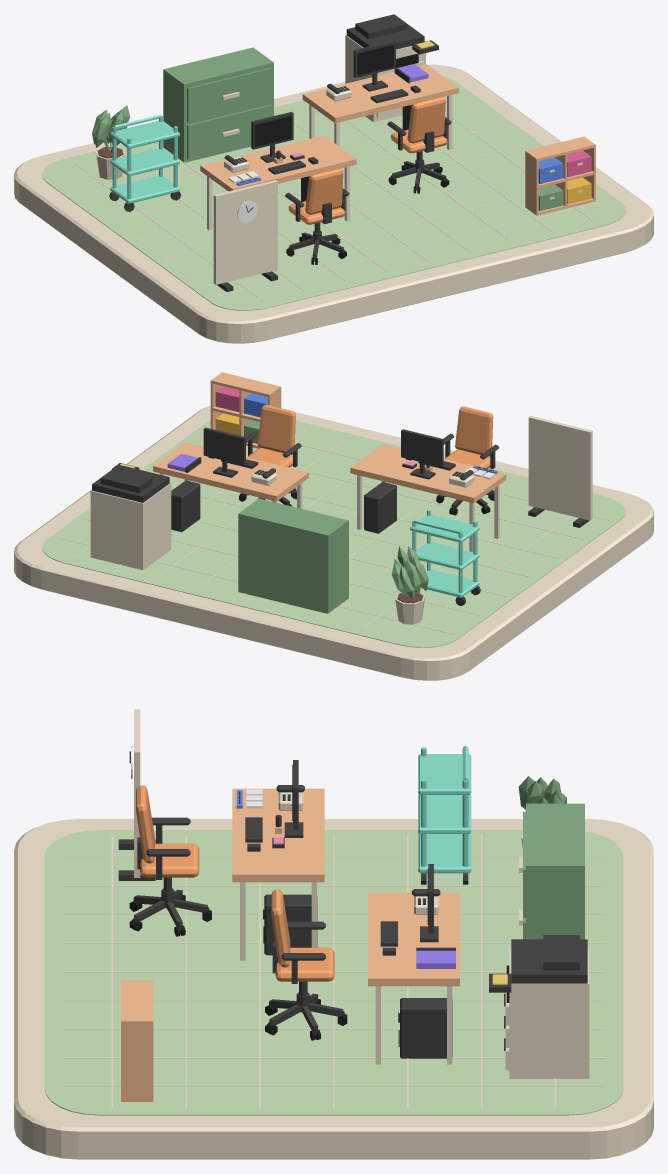
3 views of the same model, one above another, from view 1: azimuth 30°, elevation 25°; view 2: azimuth 150°, elevation 25°; view 3: azimuth 270°, elevation 25° (orthographic). The views are drawn at different scales.
Visible parts, largest first — view 1: COM-02 Floor Surface, COM-01 Rounded Base Direct, Cabinet, Panel, Top.001, Top, Body, COM-04_Chair_blender_direct.001, COM-04_Chair_blender_direct, Pot, Frame.001, Frame (+10 smaller); view 2: COM-02 Floor Surface, COM-01 Rounded Base Direct, Cabinet, Body, Panel, Top, Top.001, COM-04_Chair_blender_direct, COM-04_Chair_blender_direct.001, Pot, Frame, Frame.001 (+7 smaller); view 3: COM-02 Floor Surface, COM-01 Rounded Base Direct, Body, Cabinet, Top, Top.001, COM-04_Chair_blender_direct, COM-04_Chair_blender_direct.001, Tower.001, Cubbies divider.002, Tray.002, Tray.001 (+12 smaller).
Boxes of the visible parts, left/top/right/bottom form: COM-02 Floor Surface: left=42, top=76, right=625, bottom=310; COM-01 Rounded Base Direct: left=14, top=64, right=653, bottom=343; Cabinet: left=163, top=47, right=273, bottom=162; Panel: left=213, top=180, right=277, bottom=284; Top.001: left=302, top=64, right=458, bottom=149; Top: left=200, top=135, right=356, bottom=230; Body: left=345, top=14, right=438, bottom=122; COM-04_Chair_blender_direct.001: left=387, top=96, right=451, bottom=193; COM-04_Chair_blender_direct: left=285, top=168, right=349, bottom=264; Pot: left=92, top=105, right=130, bottom=179; Frame.001: left=353, top=40, right=395, bottom=91; Frame: left=251, top=111, right=293, bottom=162; COM-02 Floor Surface: left=42, top=420, right=625, bottom=647; COM-01 Rounded Base Direct: left=14, top=406, right=653, bottom=680; Cabinet: left=238, top=498, right=348, bottom=613; Body: left=90, top=463, right=171, bottom=570; Panel: left=528, top=416, right=592, bottom=520; Top: left=350, top=444, right=506, bottom=551; Top.001: left=153, top=442, right=308, bottom=508; COM-04_Chair_blender_direct: left=436, top=406, right=499, bottom=515; COM-04_Chair_blender_direct.001: left=239, top=404, right=301, bottom=506; Pot: left=391, top=546, right=428, bottom=624; Frame: left=401, top=429, right=443, bottom=479; Frame.001: left=203, top=427, right=245, bottom=477; COM-02 Floor Surface: left=44, top=830, right=623, bottom=1115; COM-01 Rounded Base Direct: left=14, top=819, right=653, bottom=1159; Body: left=489, top=935, right=589, bottom=1078; Cabinet: left=519, top=803, right=584, bottom=939; Top: left=232, top=788, right=324, bottom=960; Top.001: left=368, top=892, right=459, bottom=1064; COM-04_Chair_blender_direct: left=129, top=785, right=211, bottom=936; COM-04_Chair_blender_direct.001: left=265, top=889, right=347, bottom=1040; Tower.001: left=400, top=998, right=452, bottom=1058; Cubbies divider.002: left=121, top=1021, right=153, bottom=1101; Tray.002: left=418, top=754, right=471, bottom=794; Tray.001: left=418, top=794, right=471, bottom=833.
Size of the model in its own units: 6 by 1.61 by 5.2.
Materials: 1 (1 with a texture image).
